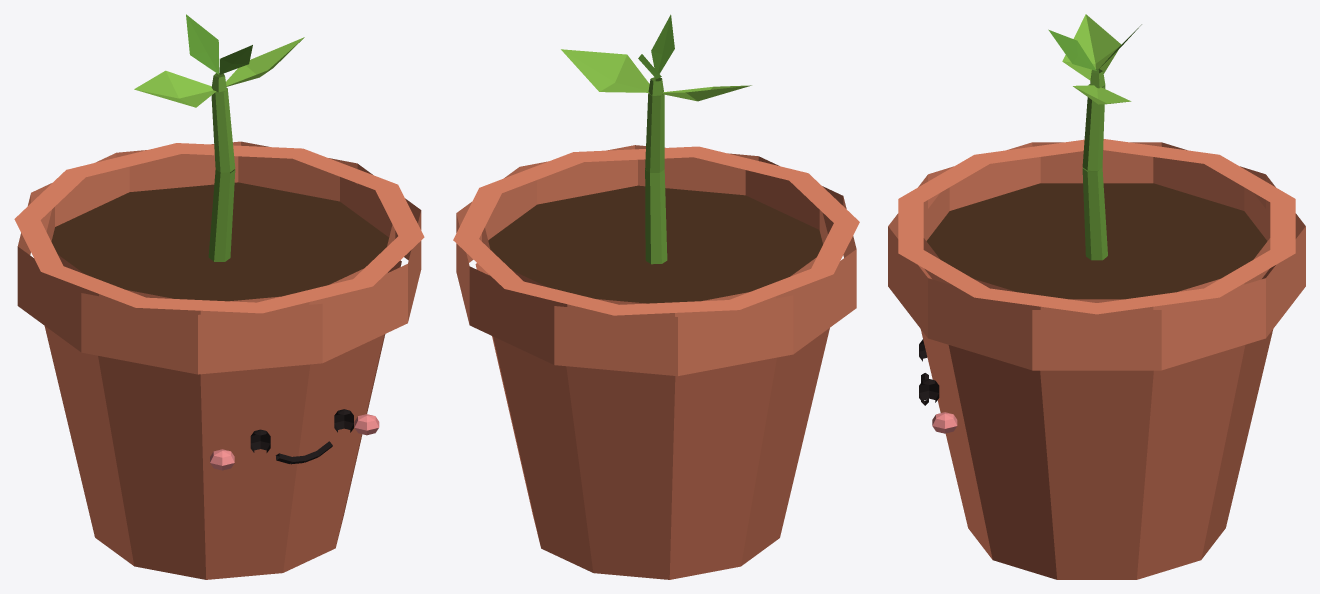
The model's file is tomato_stage1.glb.
The picture shows the model from 3 angles, left to right: view 1: azimuth 30°, elevation 25°; view 2: azimuth 150°, elevation 25°; view 3: azimuth 270°, elevation 25°; orthographic projection. The views are drawn at different scales.
Parts seen in each view (by area): view 1: tomato_stage1_sprout; view 2: tomato_stage1_sprout; view 3: tomato_stage1_sprout.
Part boxes in pixels (x1,y1,x2,y2): tomato_stage1_sprout: [14, 14, 424, 579]; tomato_stage1_sprout: [453, 14, 859, 579]; tomato_stage1_sprout: [888, 14, 1305, 579].
Size of the model in its own units: 1.88 by 2.5 by 1.88.
